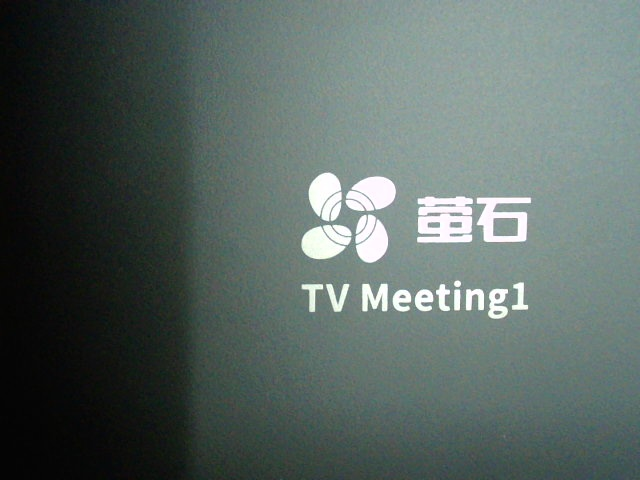BA_Yingshi: (288, 158, 546, 322)
